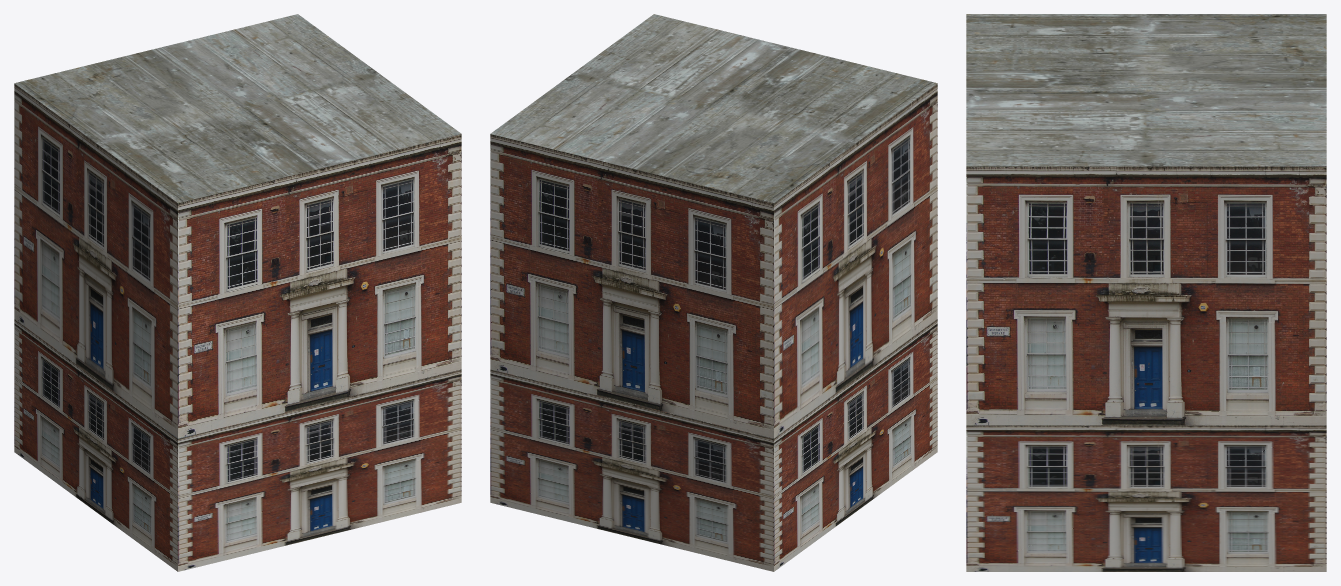
File: BagBuilding13_0.fbx
3 views of the same model, side by side, from view 1: azimuth 30°, elevation 25°; view 2: azimuth 150°, elevation 25°; view 3: azimuth 270°, elevation 25° (orthographic). The views are drawn at different scales.
Visible parts, largest first — view 1: Box0, BoxA0, roof0; view 2: Box0, BoxA0, roof0; view 3: Box0, roof0, BoxA0.
Boxes of the visible parts, x1=… form: Box0: x1=14, y1=83, x2=461, y2=438; BoxA0: x1=14, y1=319, x2=461, y2=571; roof0: x1=14, y1=14, x2=461, y2=202; Box0: x1=490, y1=83, x2=937, y2=438; BoxA0: x1=490, y1=319, x2=937, y2=571; roof0: x1=490, y1=14, x2=937, y2=202; Box0: x1=966, y1=166, x2=1326, y2=425; roof0: x1=966, y1=14, x2=1326, y2=166; BoxA0: x1=966, y1=425, x2=1326, y2=571.
Size of the model in its own units: 20.29 by 25.19 by 20.29.
